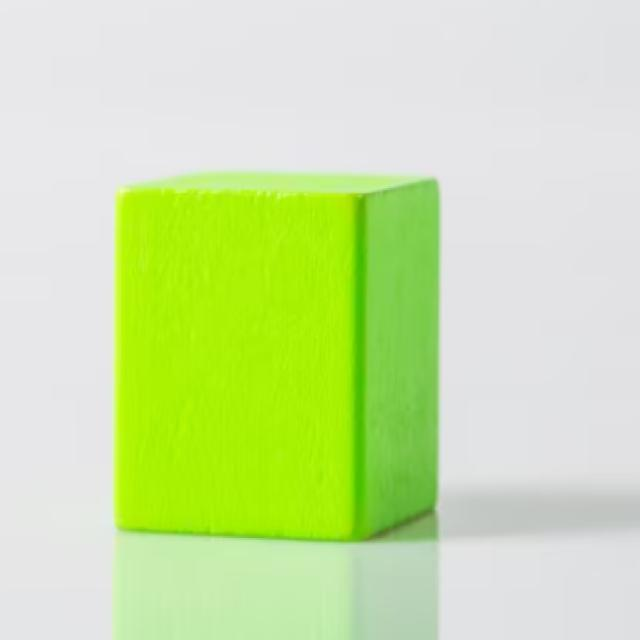green cube: (112, 169, 439, 543)
